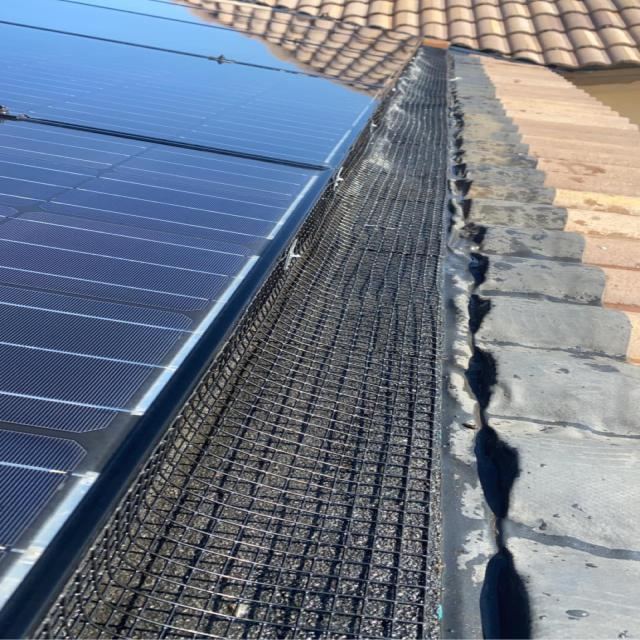clean-solar-panel: (0, 0, 418, 580)
